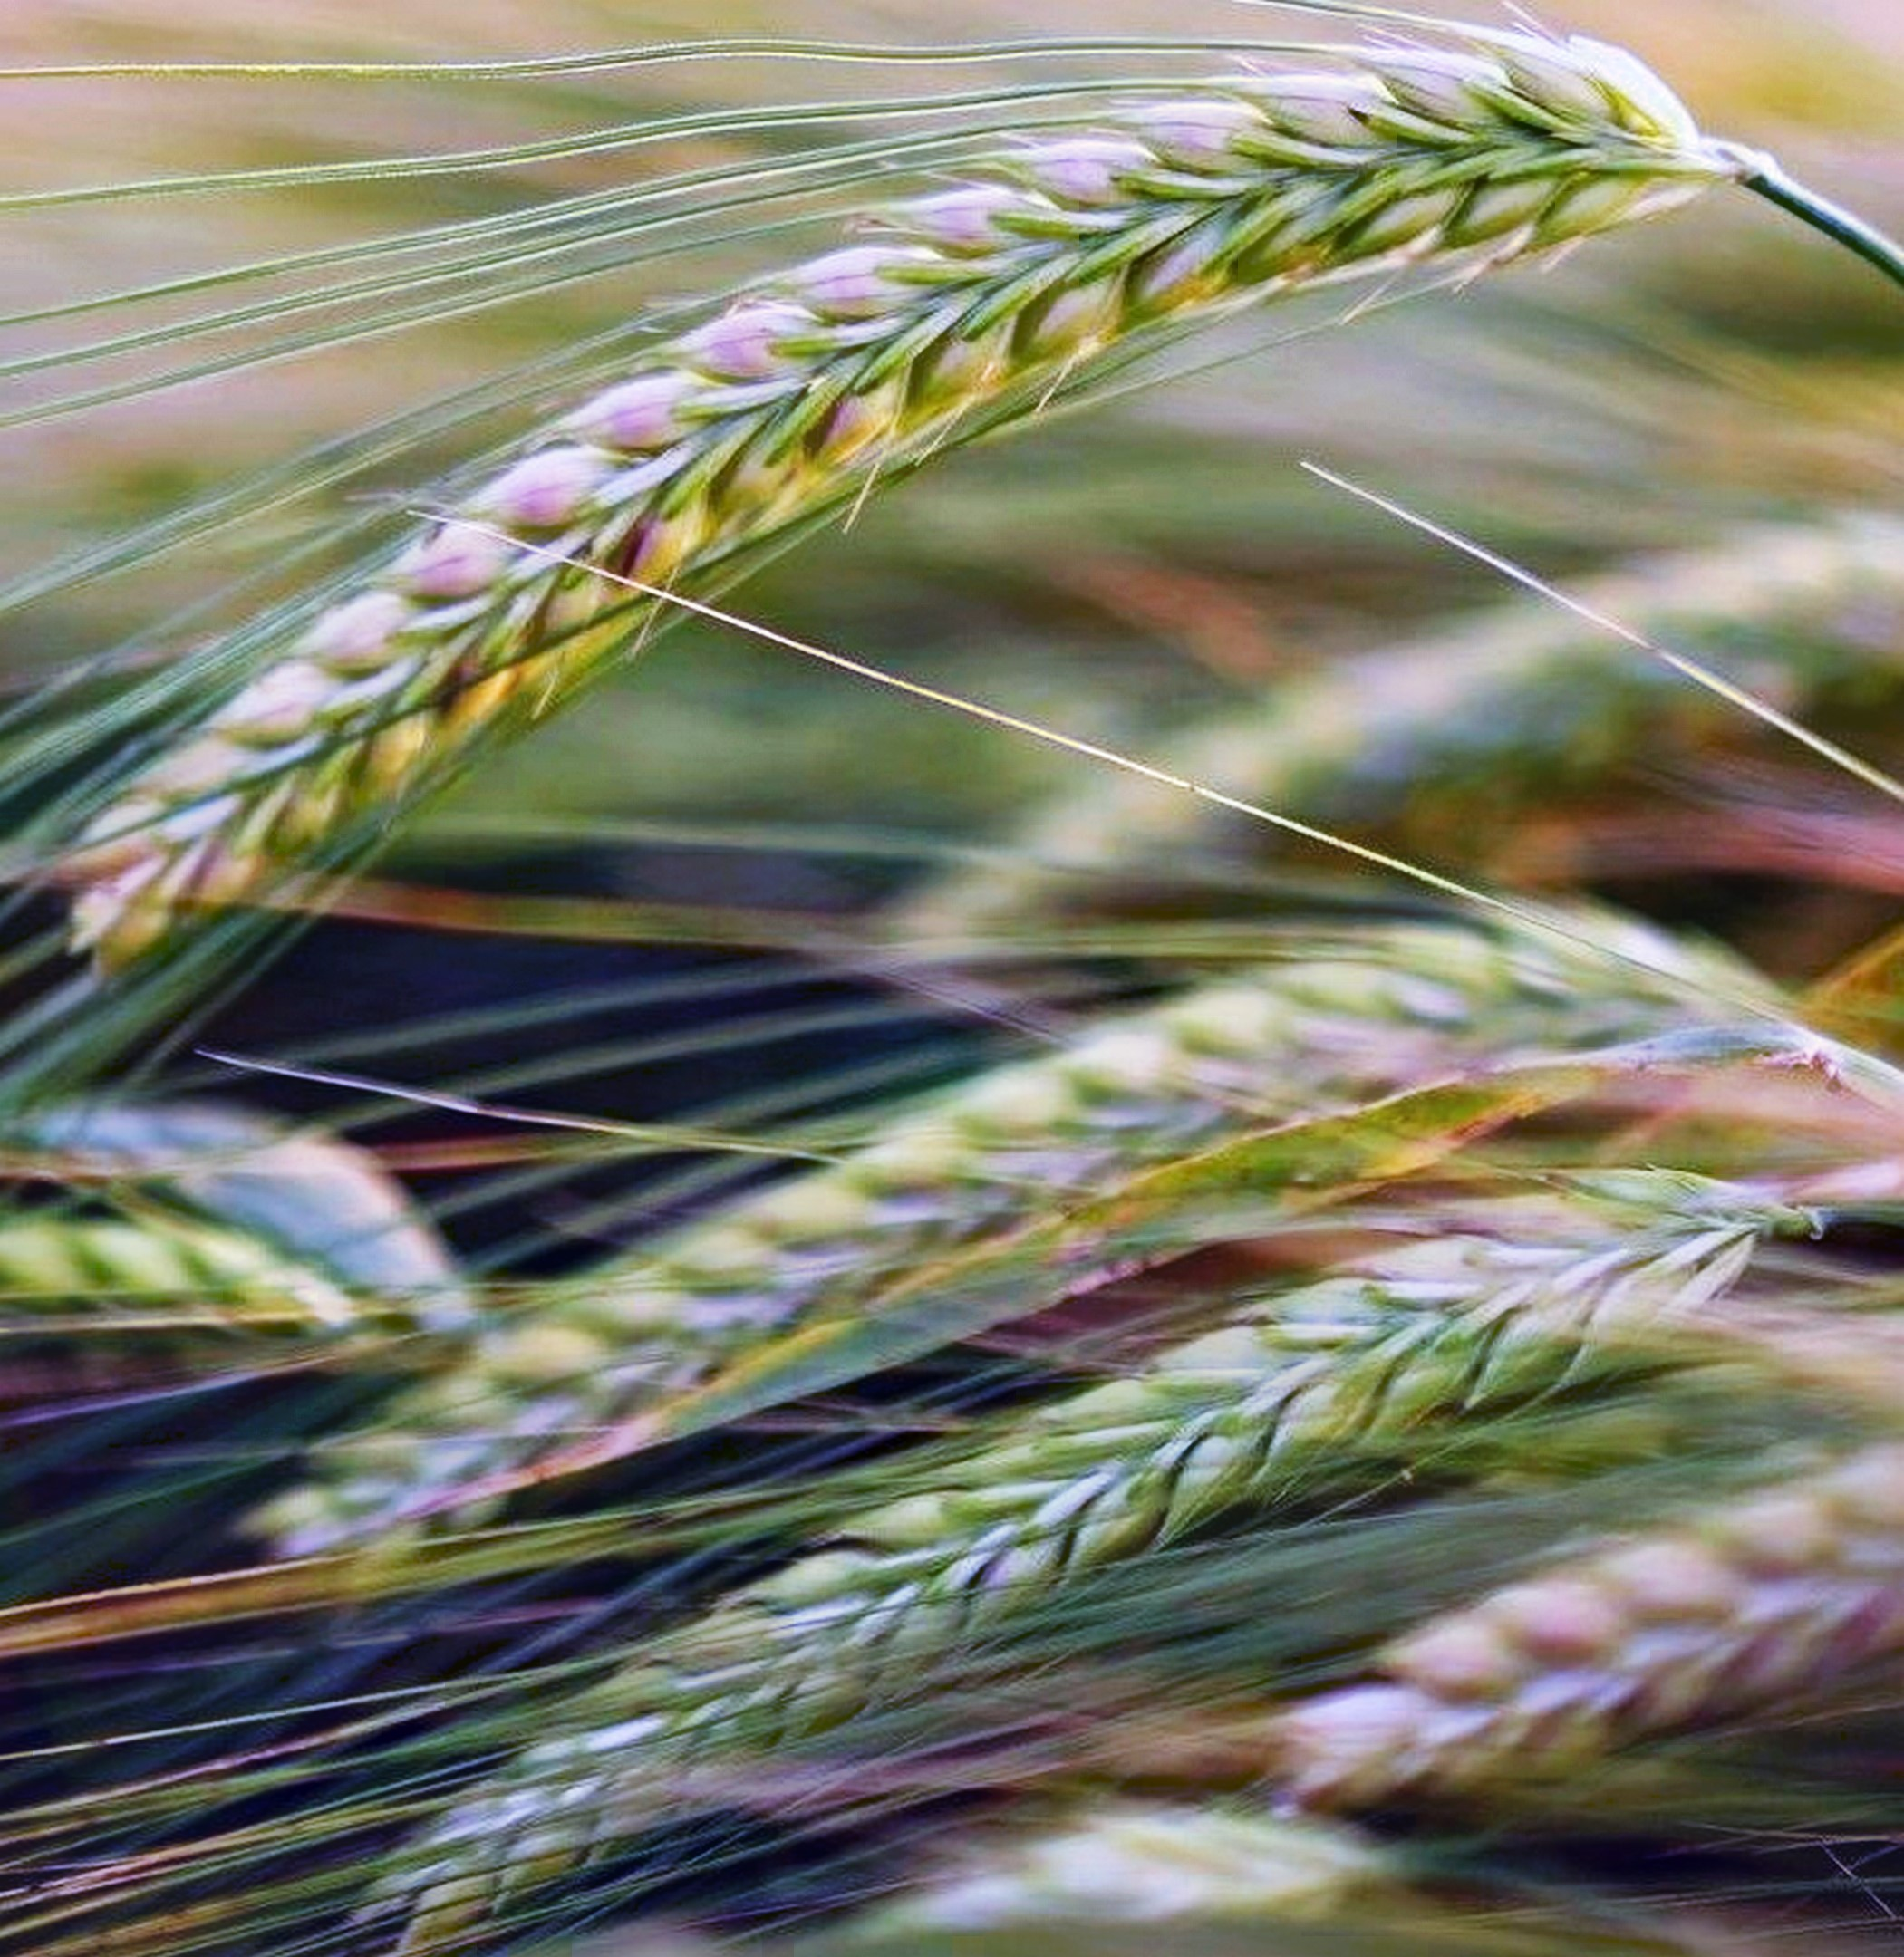Healthy Wheat: (101, 2, 1743, 975)
